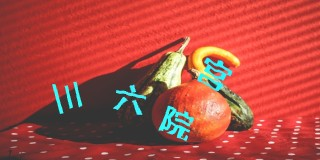三: (51, 79, 83, 114)
六: (110, 82, 148, 117)
宫: (199, 55, 232, 92)
院: (157, 105, 194, 141)
